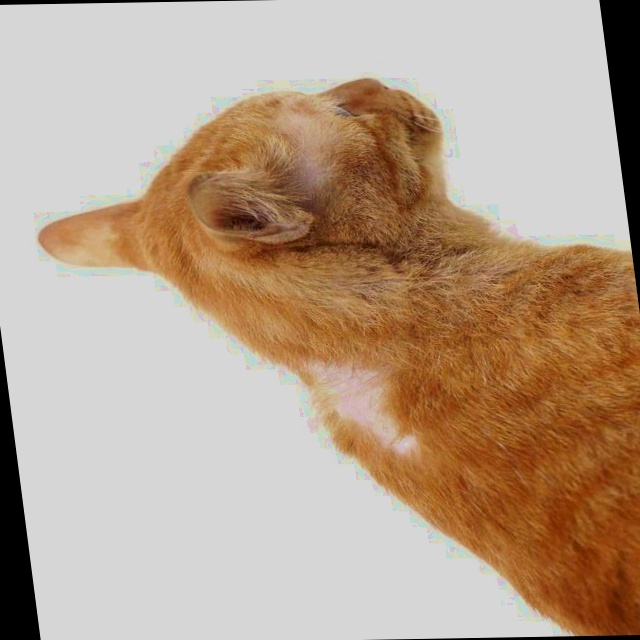hairloss: (320, 359, 396, 440)
